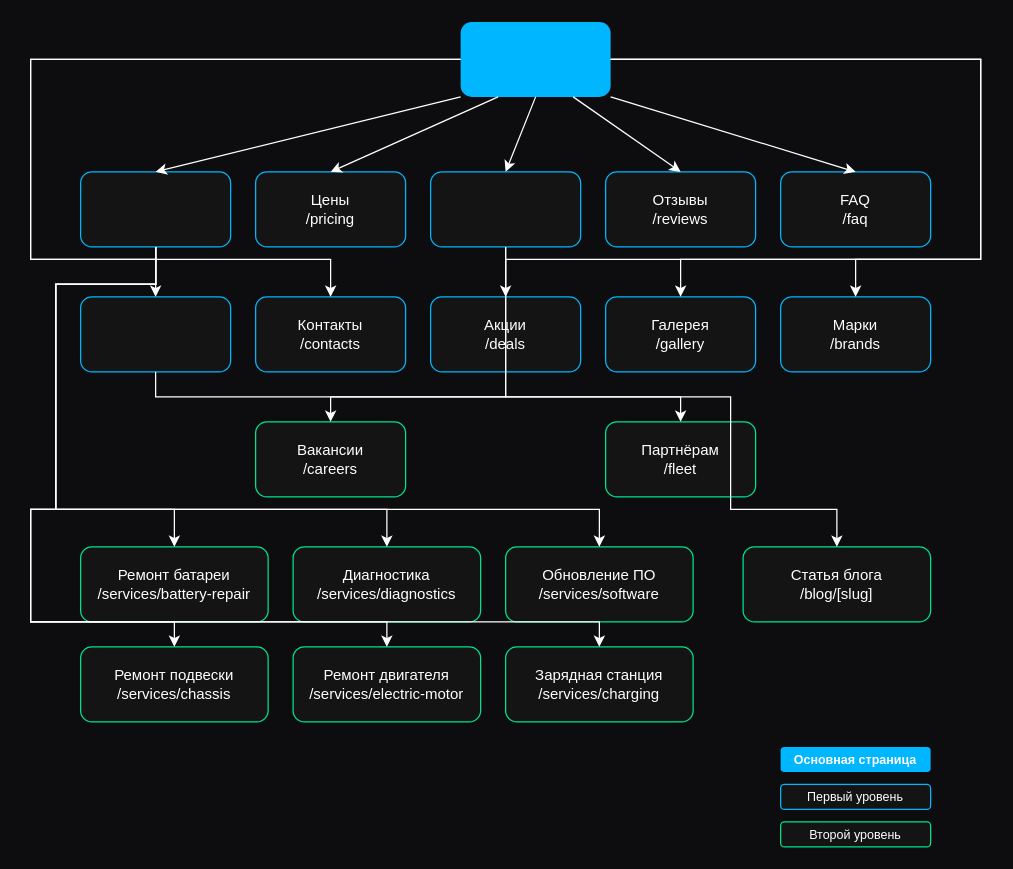
Some shapes in this 1013 by 869 pixel diagram are drawn without their labels. Each missing label, with the centre of its shape:
"Блог /blog" belongs at [155,334].
"Главная /" belongs at [535,58].
"О компании /about" belongs at [505,209].
"Услуги /services" belongs at [155,209].
